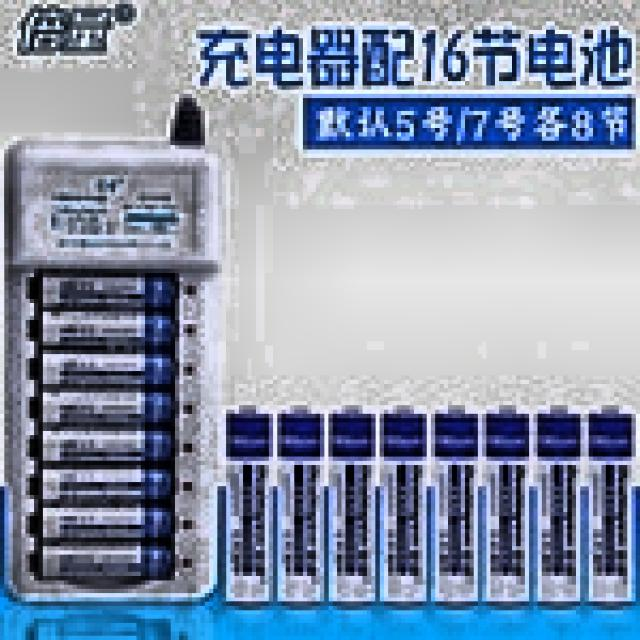Non-Valuable Waste - Batteries: (30, 271, 175, 583), (277, 411, 324, 603), (589, 409, 634, 603), (536, 410, 581, 603), (330, 411, 375, 603), (226, 411, 271, 603), (435, 410, 479, 603), (486, 410, 529, 603), (383, 410, 426, 603)
